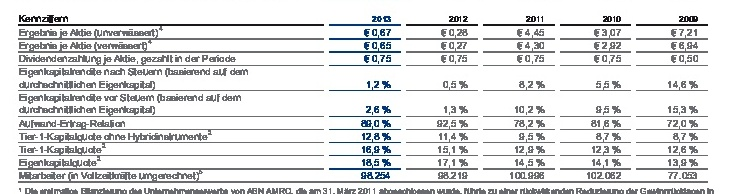table: (0, 0, 729, 194)
